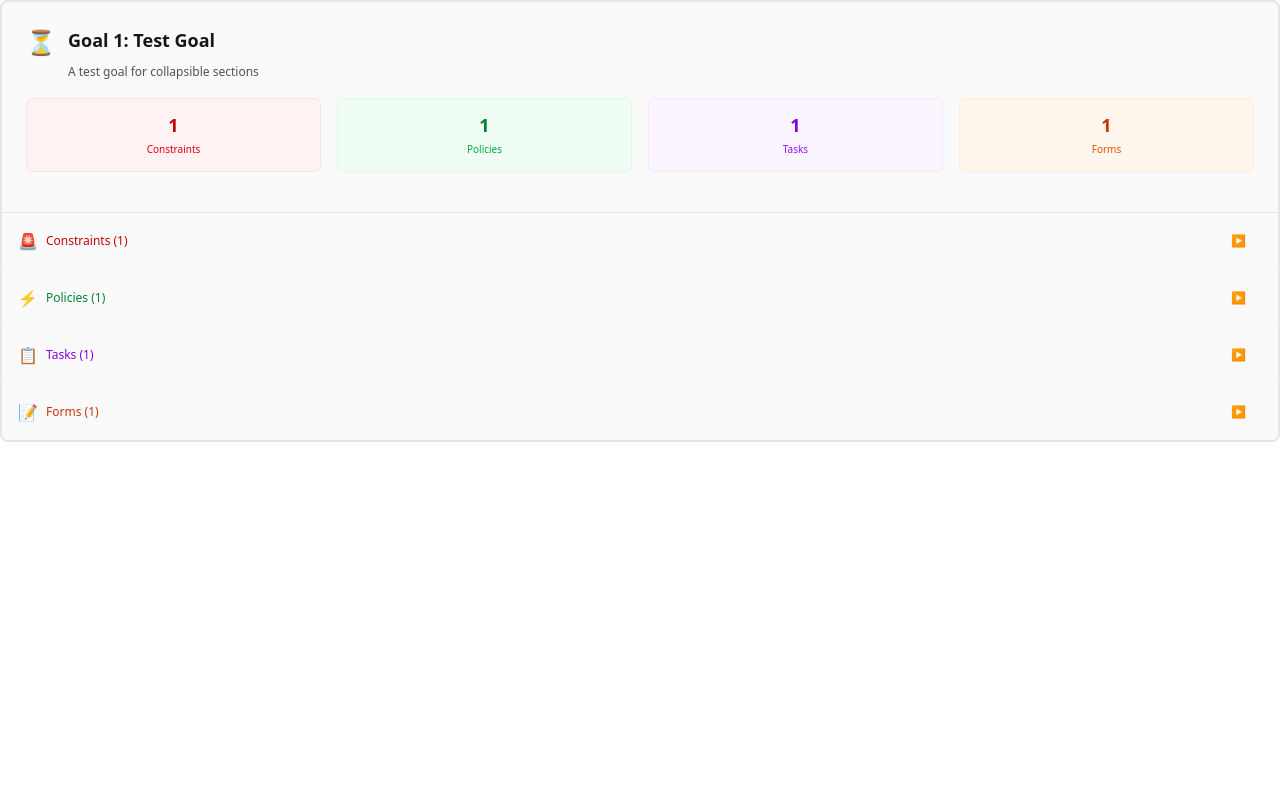
Test: GoalCardV2 › expands policies section when clicked
Click the button "⚡ Policies (1) ▶": click(70, 297) [10,278,1254,318]
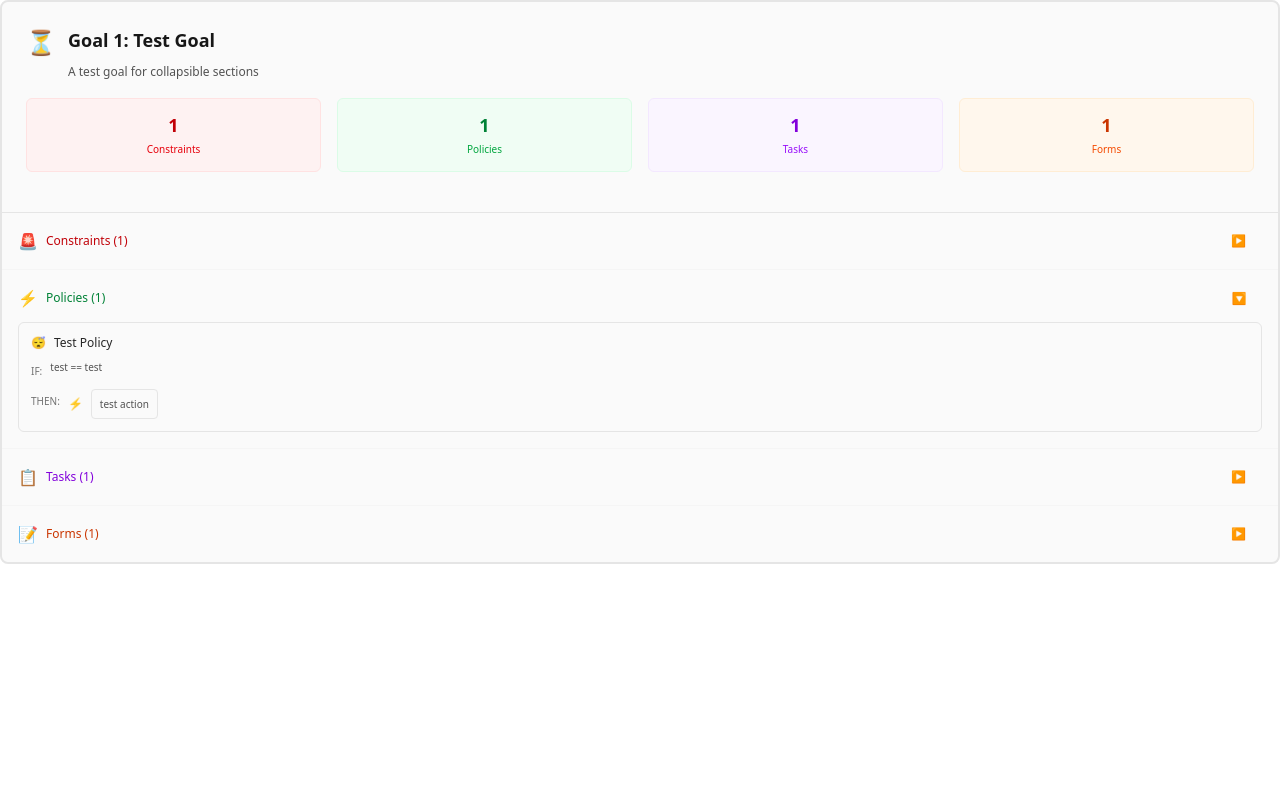
Expected: the heading "Test Policy" is shown, [54,334,112,350]
